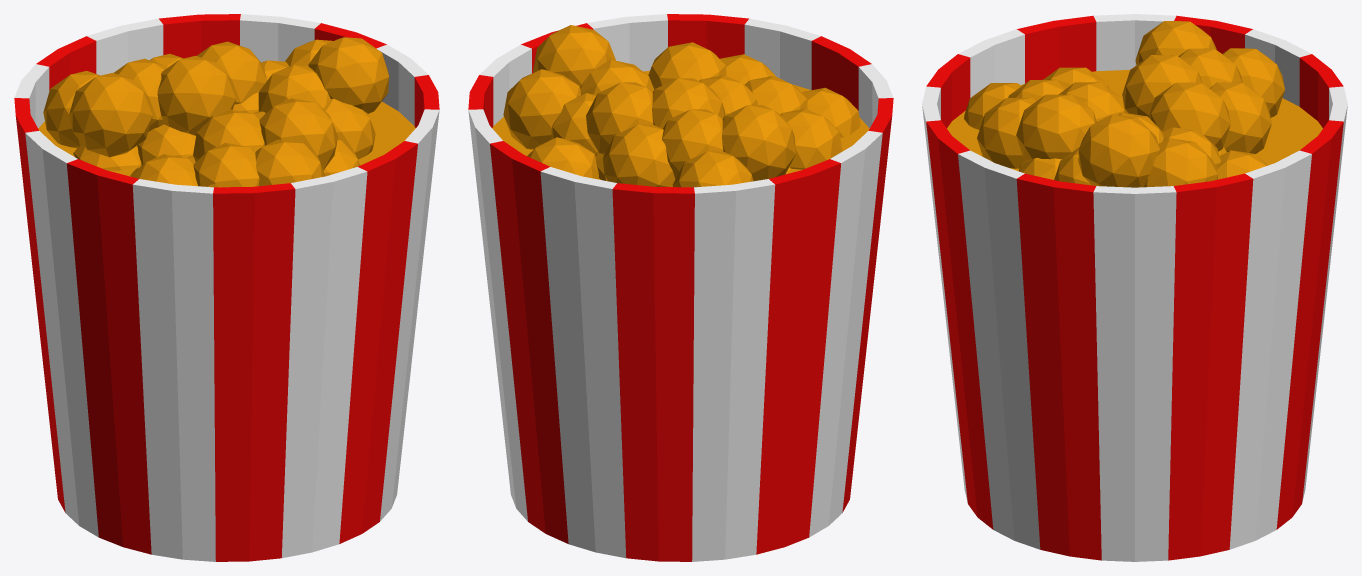
File: nuggets bucket.glb
The picture shows the model from 3 angles, left to right: view 1: azimuth 30°, elevation 25°; view 2: azimuth 150°, elevation 25°; view 3: azimuth 270°, elevation 25°; orthographic projection.
Parts seen in each view (by area): view 1: Cylinder; view 2: Cylinder; view 3: Cylinder.
Boxes of the visible parts, left/top/right/bottom form: Cylinder: left=14, top=14, right=439, bottom=561; Cylinder: left=468, top=14, right=893, bottom=561; Cylinder: left=922, top=14, right=1347, bottom=561.
Bounding box in the file's own units: 0.2 × 0.2211 × 0.2.
